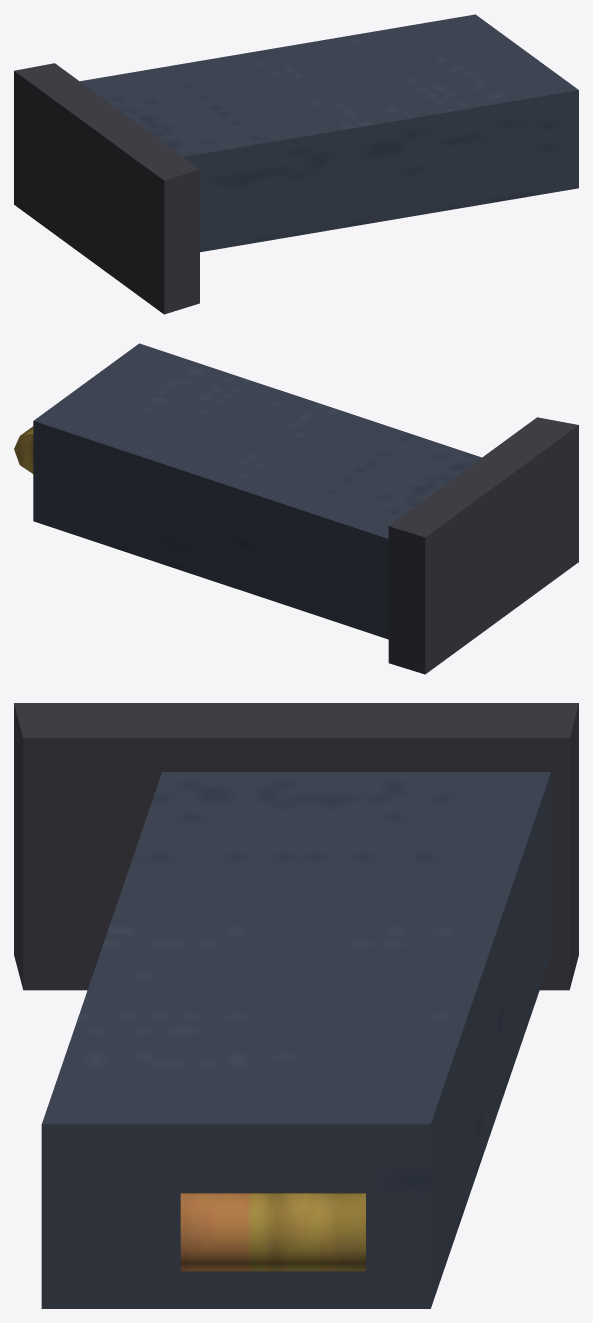
The model's file is magazine_pistol.obj.
3 renders of one model, top to bottom at view 1: azimuth 30°, elevation 25°; view 2: azimuth 150°, elevation 25°; view 3: azimuth 270°, elevation 25°, orthographic. The views are drawn at different scales.
Parts seen in each view (by area): view 1: magazine_pistol; view 2: magazine_pistol; view 3: magazine_pistol.
Part boxes in pixels (bbox=[...]): magazine_pistol: bbox=[14, 14, 578, 314]; magazine_pistol: bbox=[14, 343, 578, 674]; magazine_pistol: bbox=[14, 703, 578, 1308].
Bounding box in the file's own units: 0.1075 × 0.03 × 0.061.
1 material, 1 textured.
